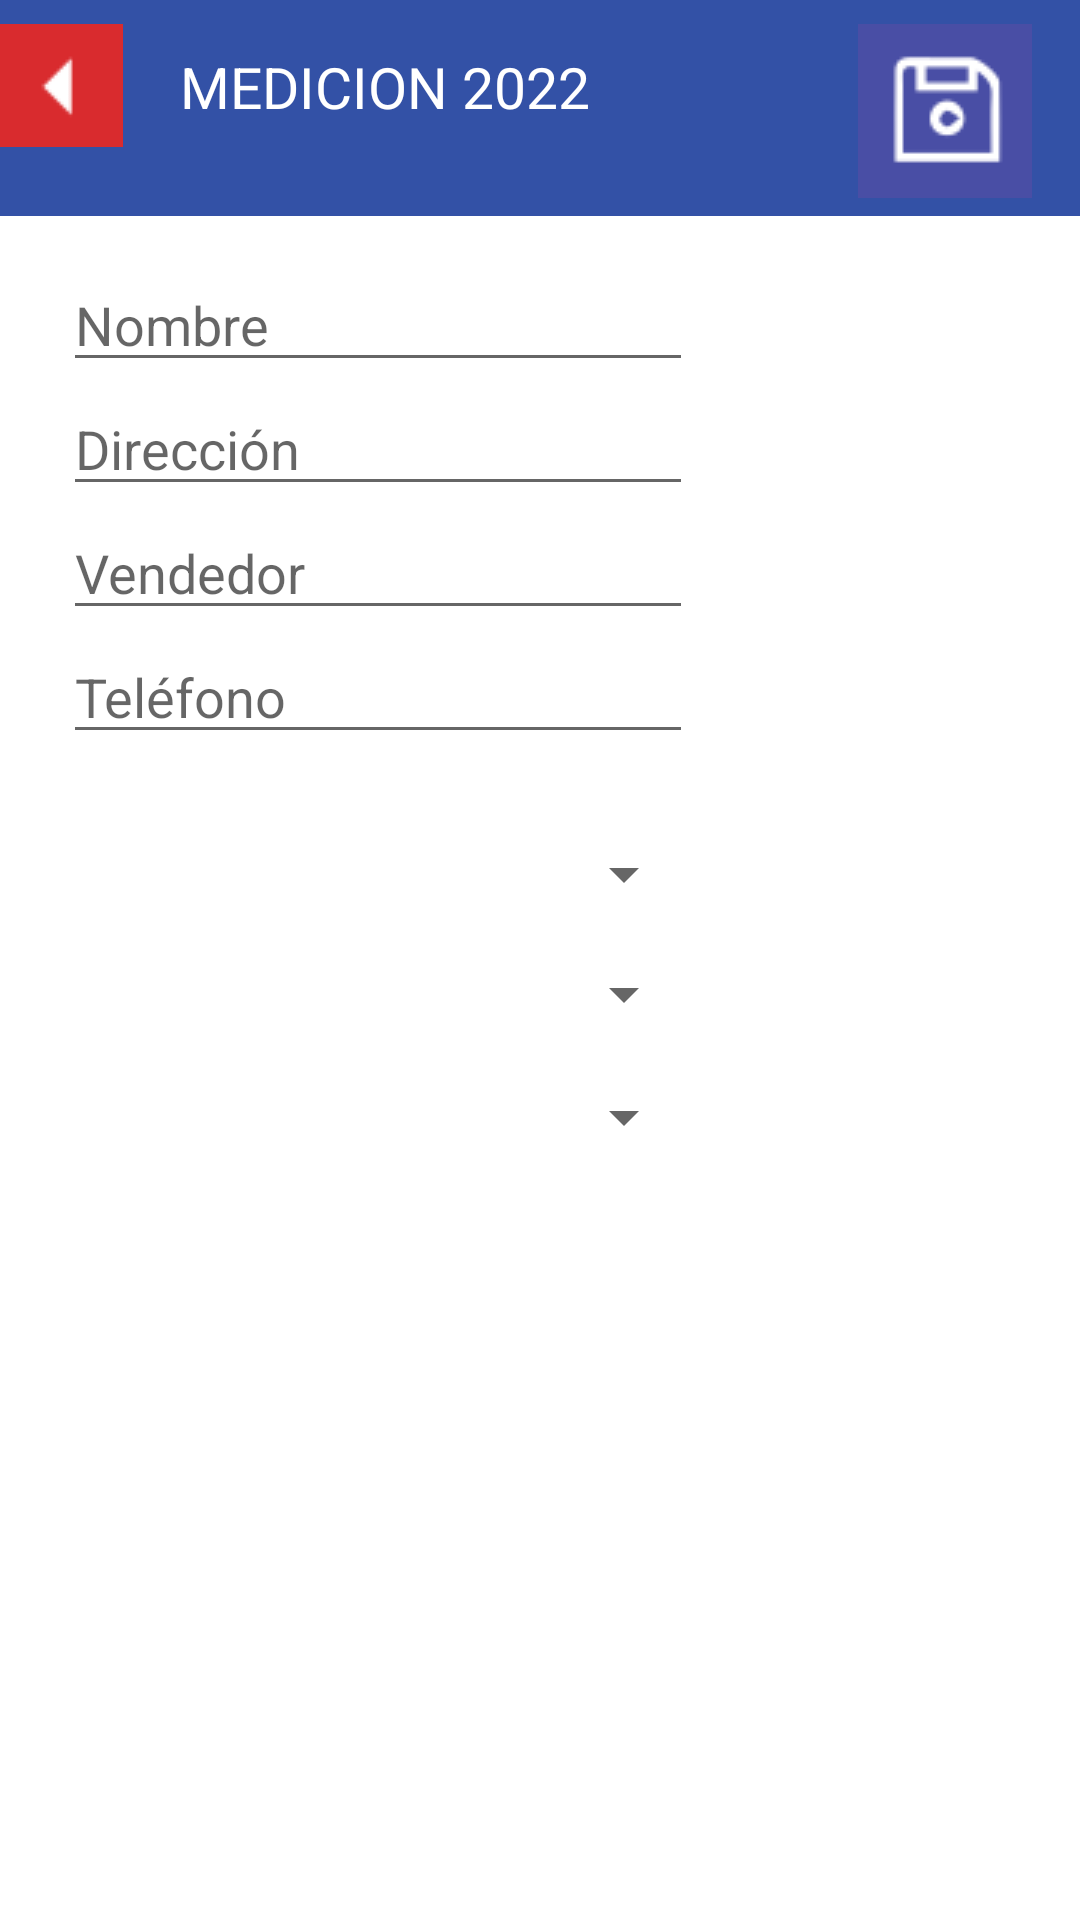

Screen size 1080px x 1920px. Icon name, then its box in pixels as (x1, y1, x2, y2):
atras: (0, 24, 123, 147)
guardar: (893, 56, 1003, 163)
